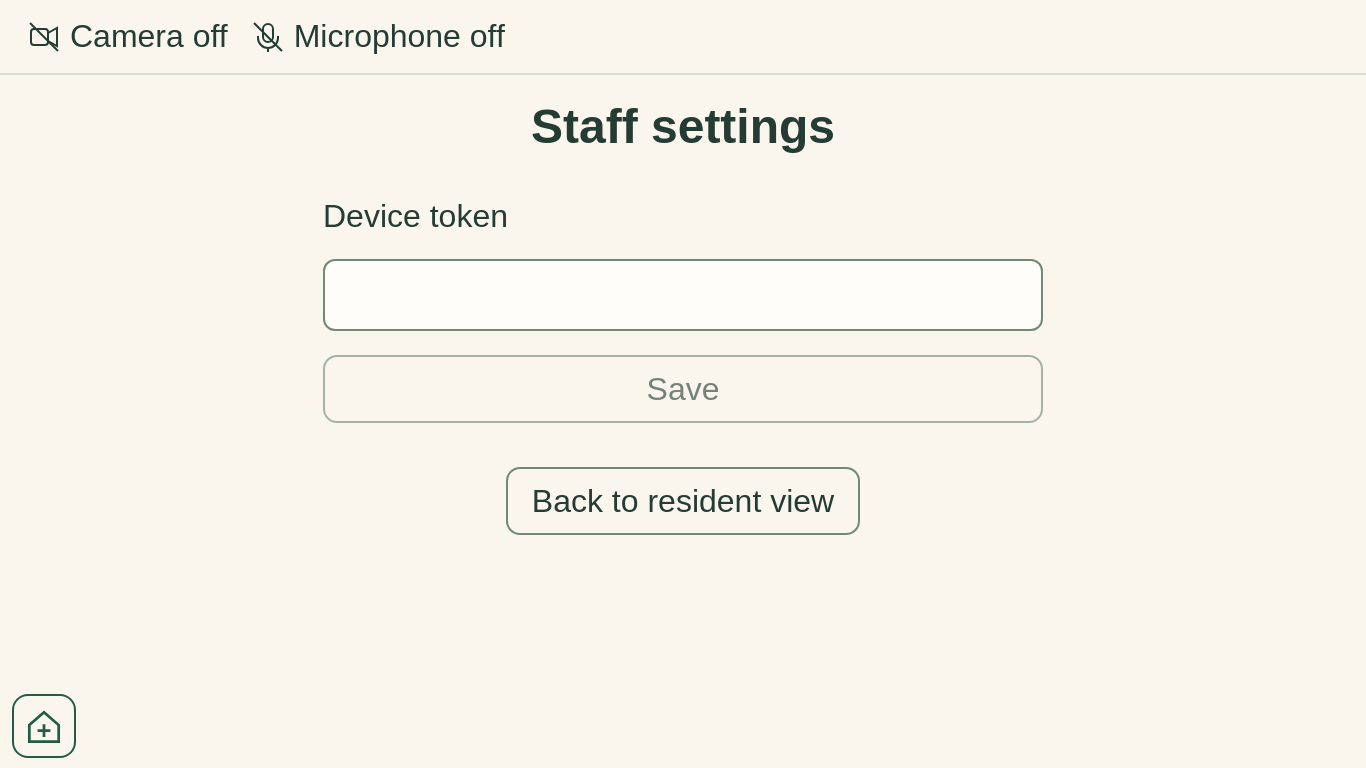
Scenario: first setup skips PIN, saving exits settings and boots auth
The width and height of the screenshot is (1366, 768).
In the password field labelled "Device token": (683, 295) [323,259,1043,331], type "1234"
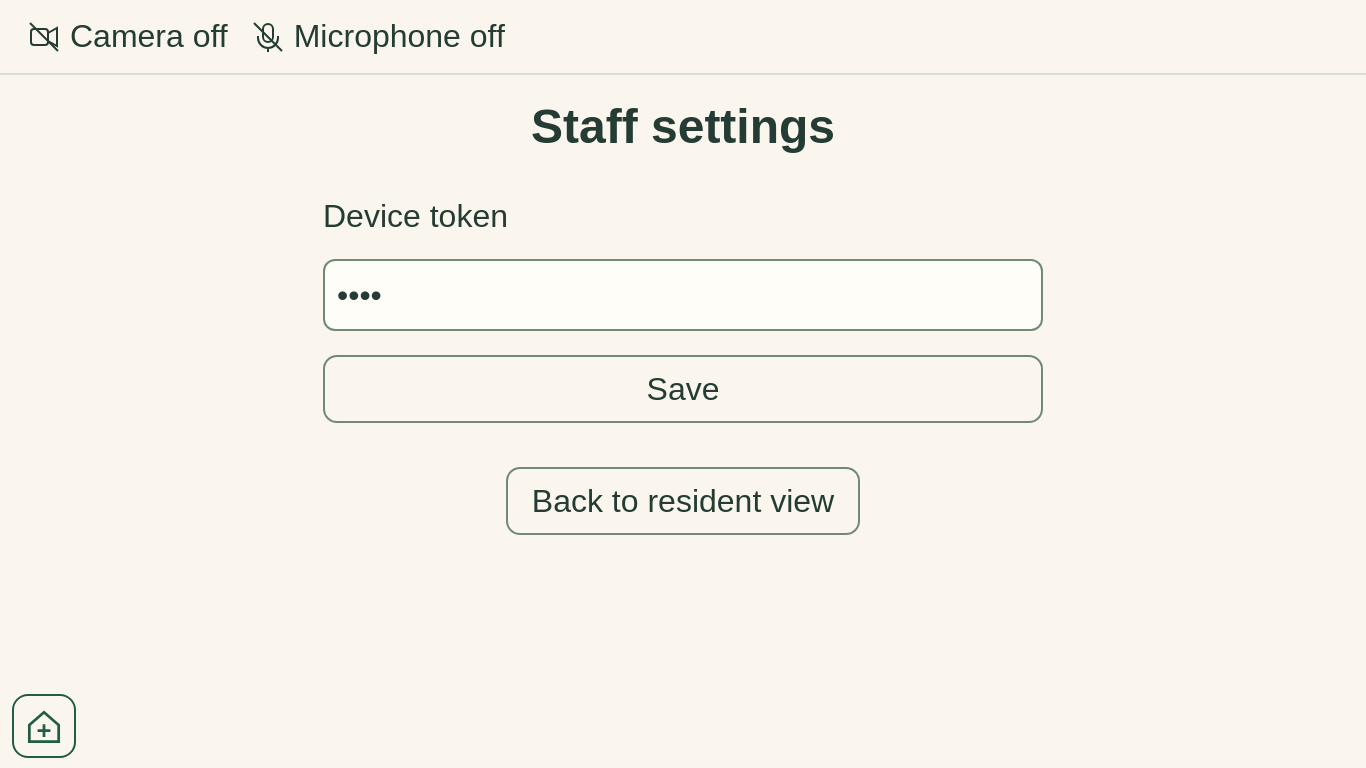
Click the button "Save": (683, 389) [323,355,1043,423]
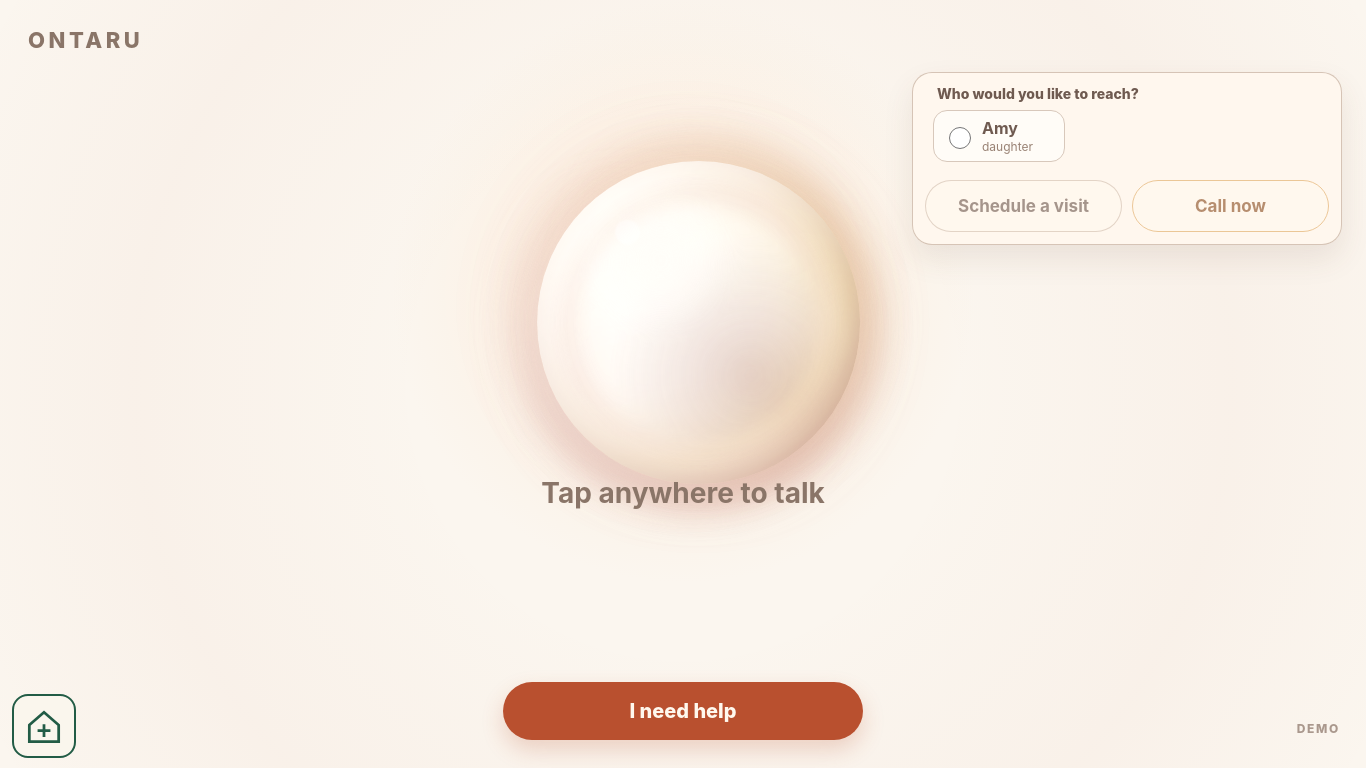
Now the text "Tap anywhere to talk" is shown, box [541,476,825,510]
